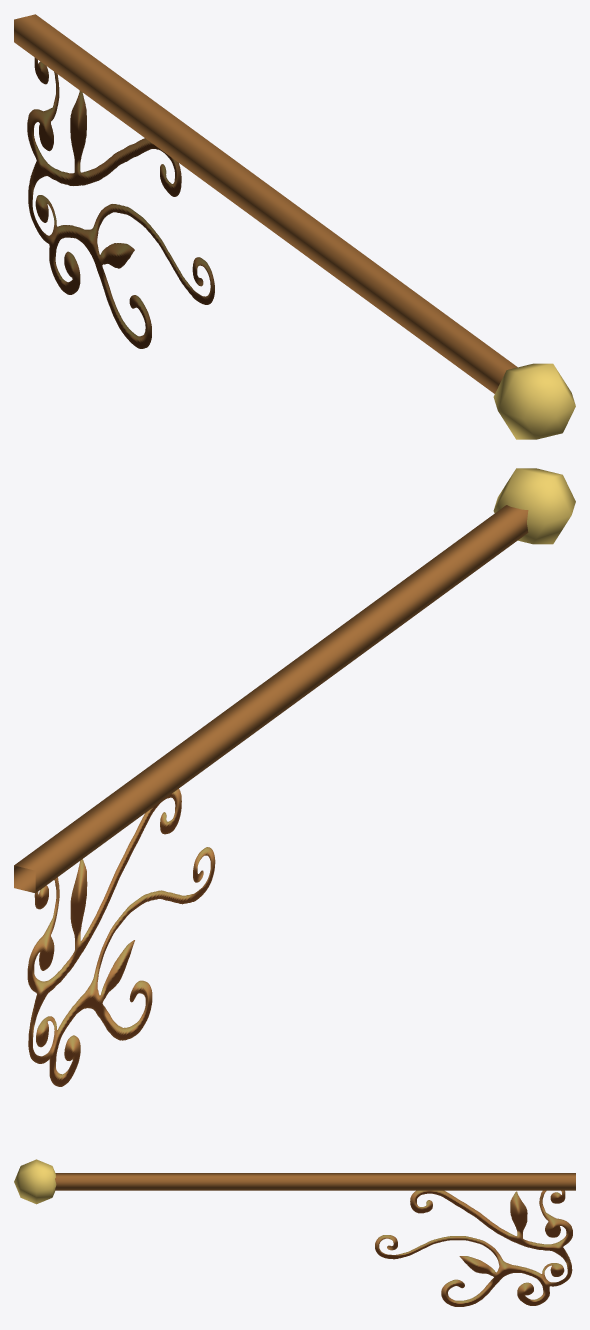
File: cloth_001.fbx
The picture shows the model from 3 angles, top to bottom: view 1: azimuth 30°, elevation 25°; view 2: azimuth 150°, elevation 25°; view 3: azimuth 270°, elevation 25°; orthographic projection. The views are drawn at different scales.
Parts seen in each view (by area): view 1: polySurface5; view 2: polySurface5; view 3: polySurface5.
Part boxes in pixels (left/top/right/bottom): polySurface5: left=14, top=14, right=575, bottom=439; polySurface5: left=14, top=468, right=575, bottom=1086; polySurface5: left=14, top=1159, right=575, bottom=1306.
Bounding box in the file's own units: 2.75 × 34.24 × 10.18.
